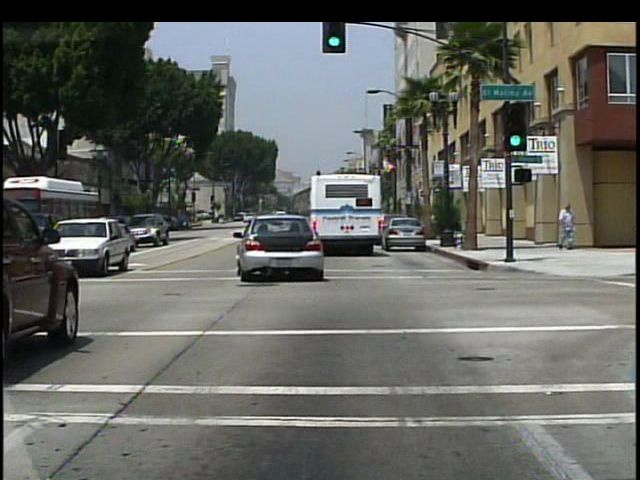person: (557, 203, 577, 251)
